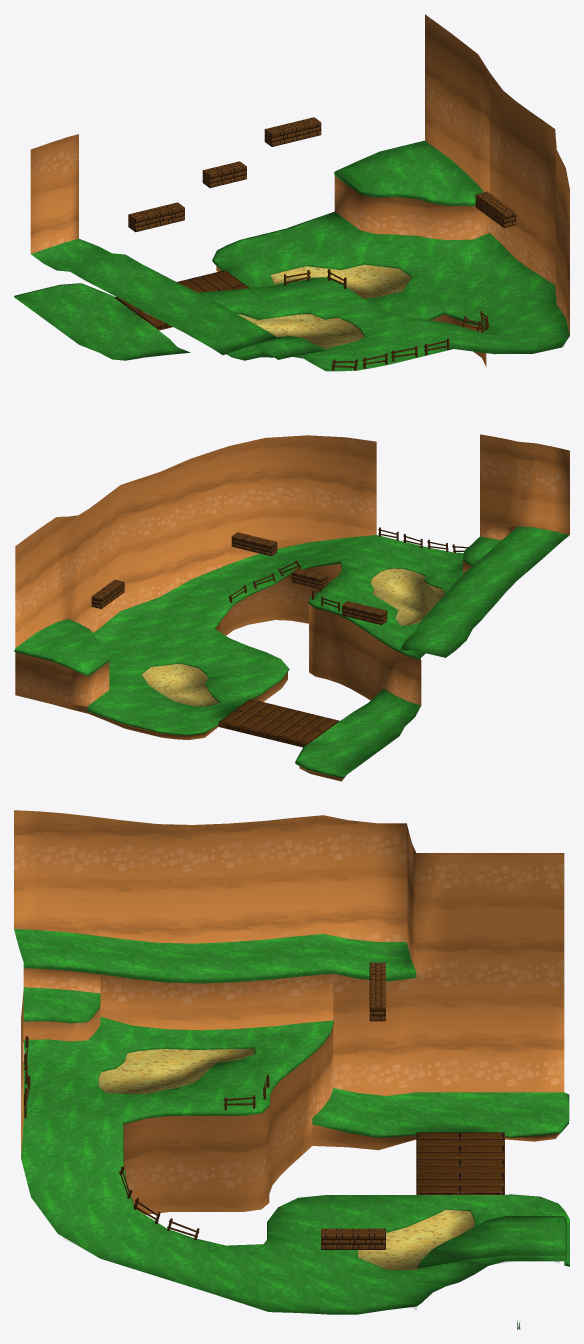
The model's file is jaime_world.gltf.
3 views of the same model, one above another, from view 1: azimuth 30°, elevation 25°; view 2: azimuth 150°, elevation 25°; view 3: azimuth 270°, elevation 25° (orthographic). The views are drawn at different scales.
Parts seen in each view (by area): view 1: Grid, Cube.003, Cube.001, Cube.004, Cube.002; view 2: Grid, Cube.003, Cube.001, Cube.004, Cube.002; view 3: Grid, Cube.004, Cube.003.
Boxes of the visible parts, x1,y1,x2,y2 form: Grid: (14,14,569,371); Cube.003: (264,117,321,146); Cube.001: (128,202,184,232); Cube.004: (475,191,516,227); Cube.002: (202,161,246,187); Grid: (14,434,569,781); Cube.003: (231,532,277,556); Cube.001: (342,601,387,624); Cube.004: (91,579,124,608); Cube.002: (291,568,327,589); Grid: (14,810,569,1314); Cube.004: (321,1228,385,1249); Cube.003: (369,979,385,1021).
Bounding box in the file's own units: 38.83 × 19.13 × 34.21.
Materials: 7 (7 with a texture image).
